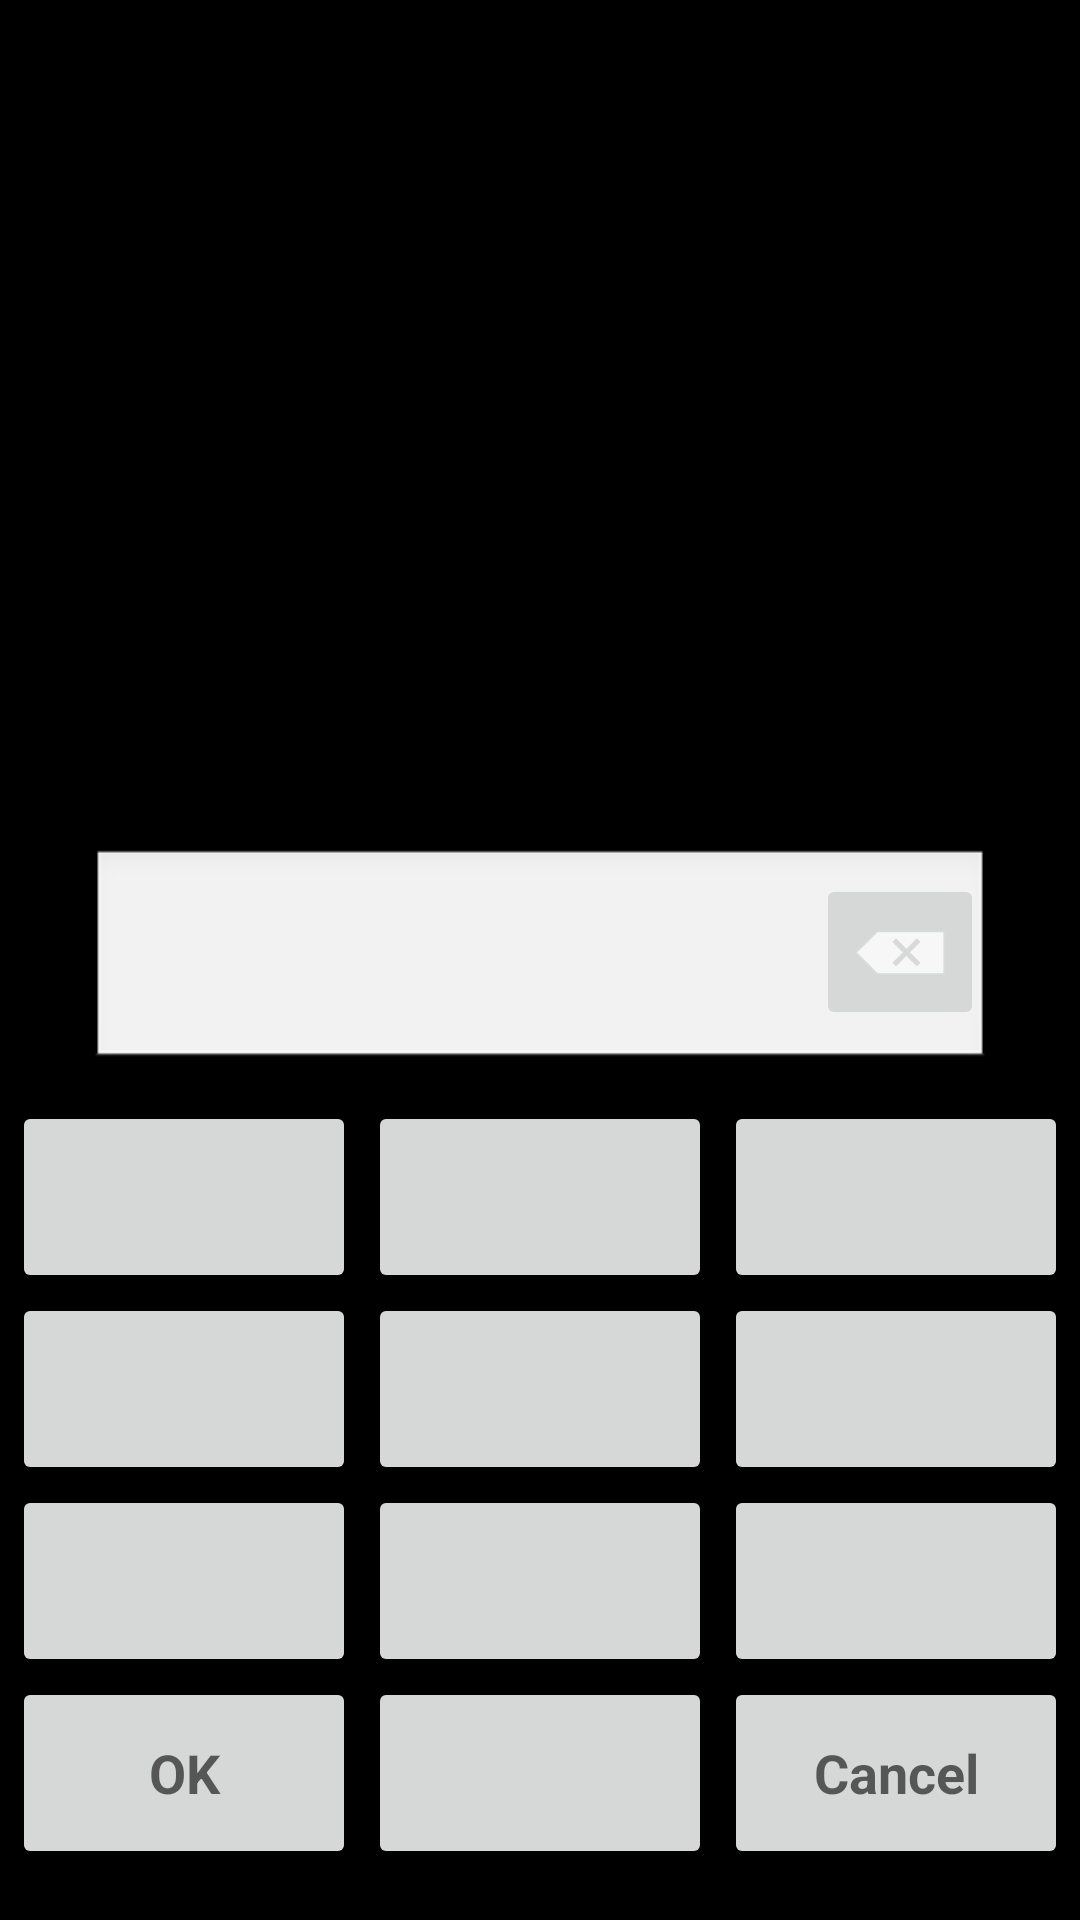

Point at icon controls on the screen. Image size 1080 × 1920, points as (x=x, y=y).
delete: (x=900, y=952)
